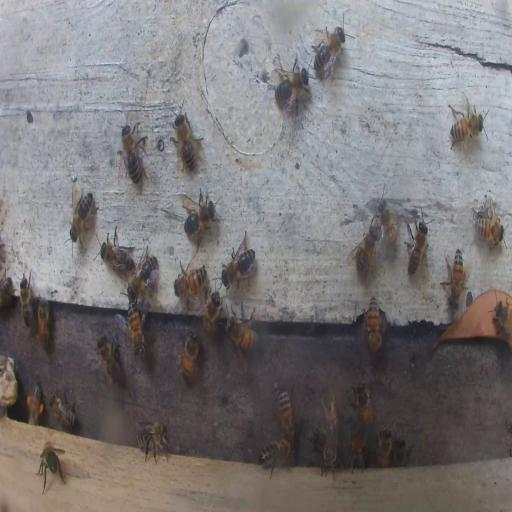bee: (272, 52, 310, 114), (309, 21, 348, 80), (182, 184, 219, 246), (118, 120, 148, 188), (222, 232, 256, 287), (404, 207, 430, 278), (348, 219, 380, 276), (172, 112, 201, 173), (68, 188, 97, 244), (37, 440, 66, 494), (136, 419, 170, 465), (448, 102, 485, 144), (100, 227, 132, 275), (258, 436, 293, 478), (473, 200, 503, 248), (95, 332, 122, 384), (128, 252, 156, 302), (172, 264, 208, 300), (374, 194, 398, 248), (126, 302, 147, 362), (364, 296, 385, 354), (227, 313, 259, 351), (351, 378, 373, 429), (446, 248, 464, 307), (18, 269, 34, 332), (203, 289, 223, 336), (181, 331, 199, 383), (50, 395, 76, 430), (37, 297, 53, 353), (276, 388, 293, 440), (492, 300, 512, 338), (350, 428, 368, 470), (27, 382, 44, 426), (320, 440, 339, 479), (322, 384, 337, 432), (375, 425, 392, 467), (1, 274, 15, 310), (394, 436, 409, 464)
